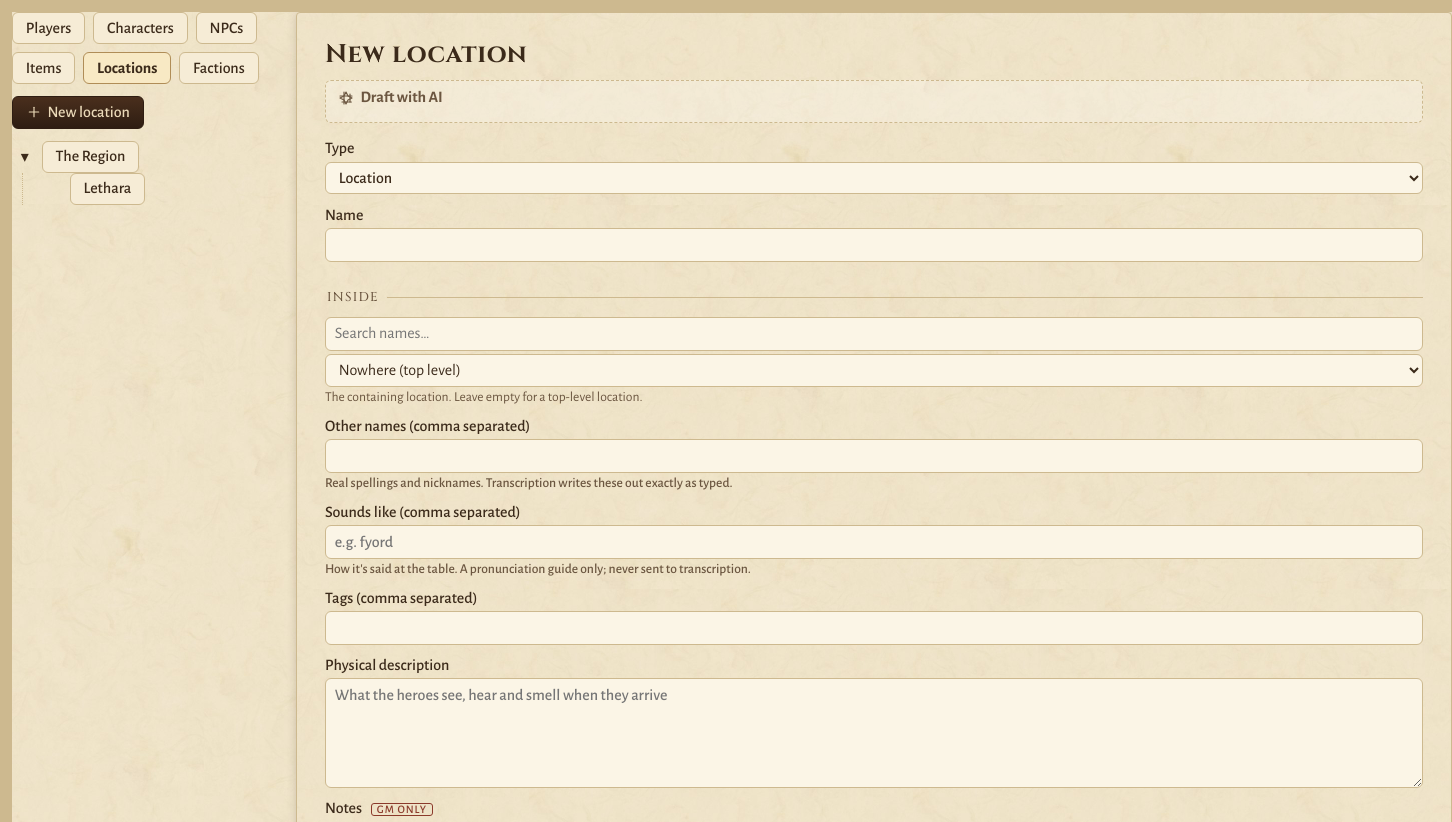
Test: relationships › a rejected relationship shows the server's reason, e.g. a containment loop
Click the button "The Region". click: (90, 157)
box: x1=42 y1=141 x2=139 y2=173
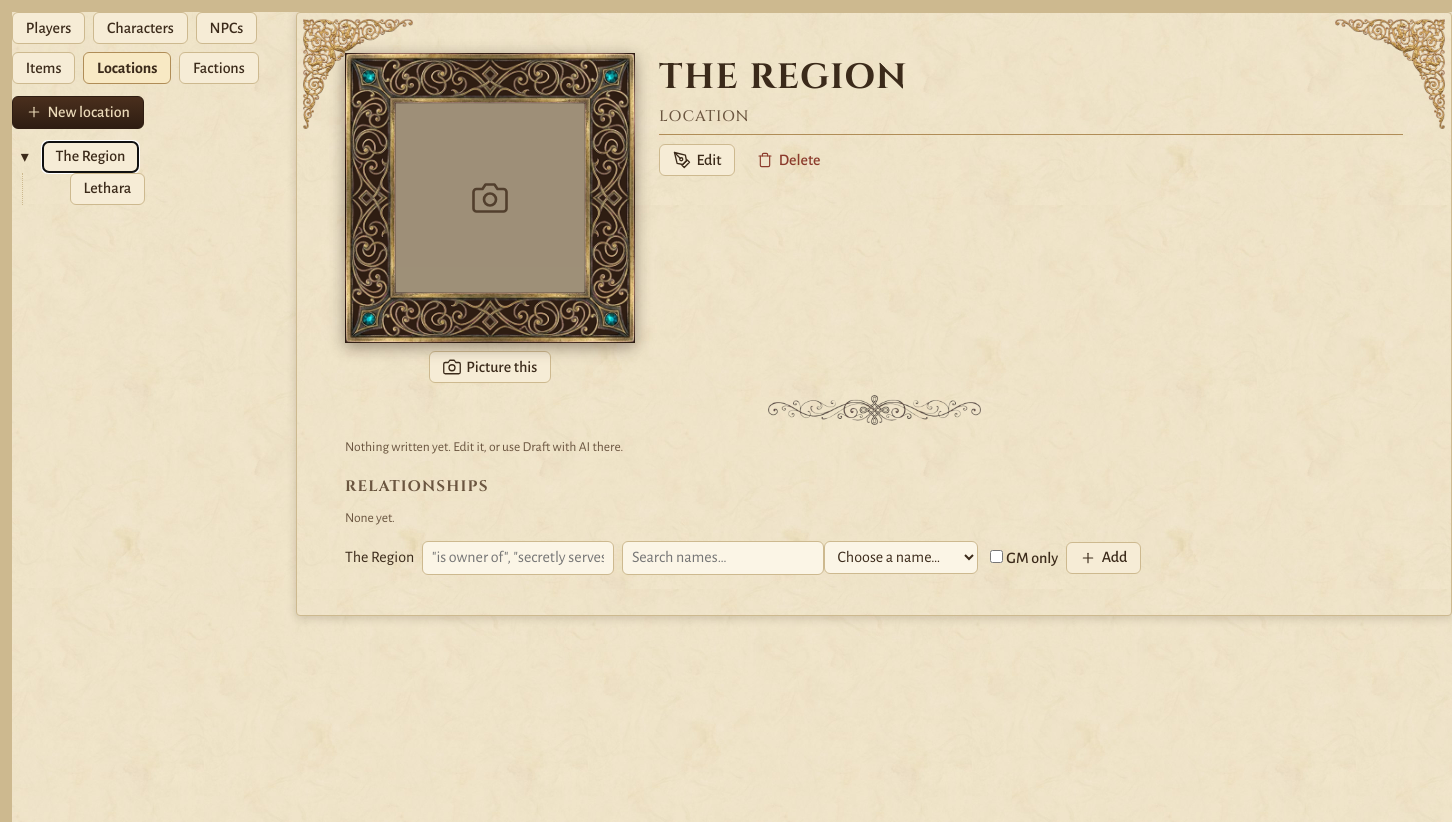
Select "Lethara" in the dropdown named "Related to". click: (901, 557)
box: x1=824 y1=541 x2=978 y2=574
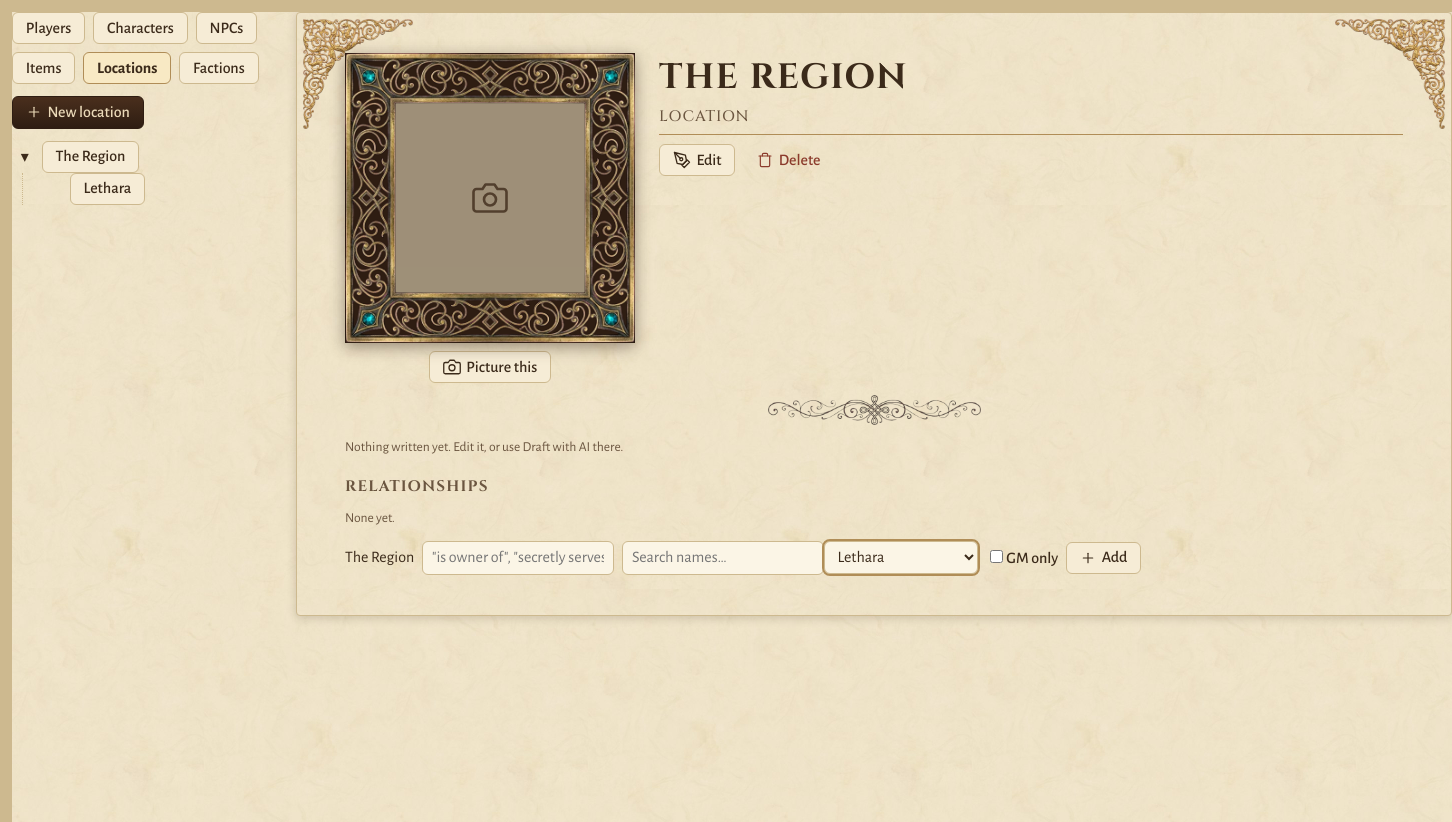
Type "part of" into the field with placeholder "\"is owner of\", \"secretly serves\", …". click: (518, 558)
box: x1=422 y1=541 x2=614 y2=575
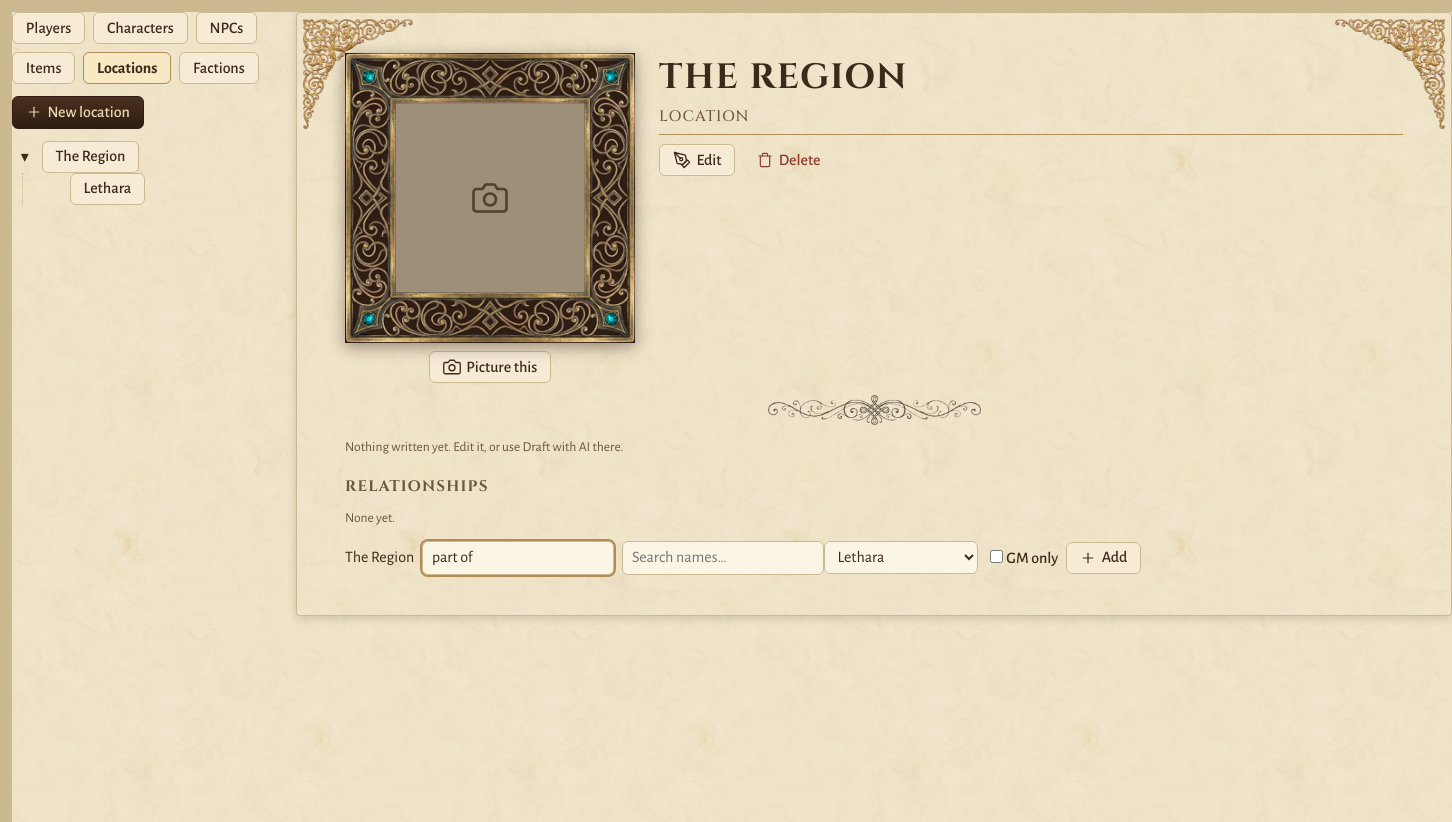
Click the button "Add". click: (1104, 558)
box: x1=1066 y1=542 x2=1141 y2=574
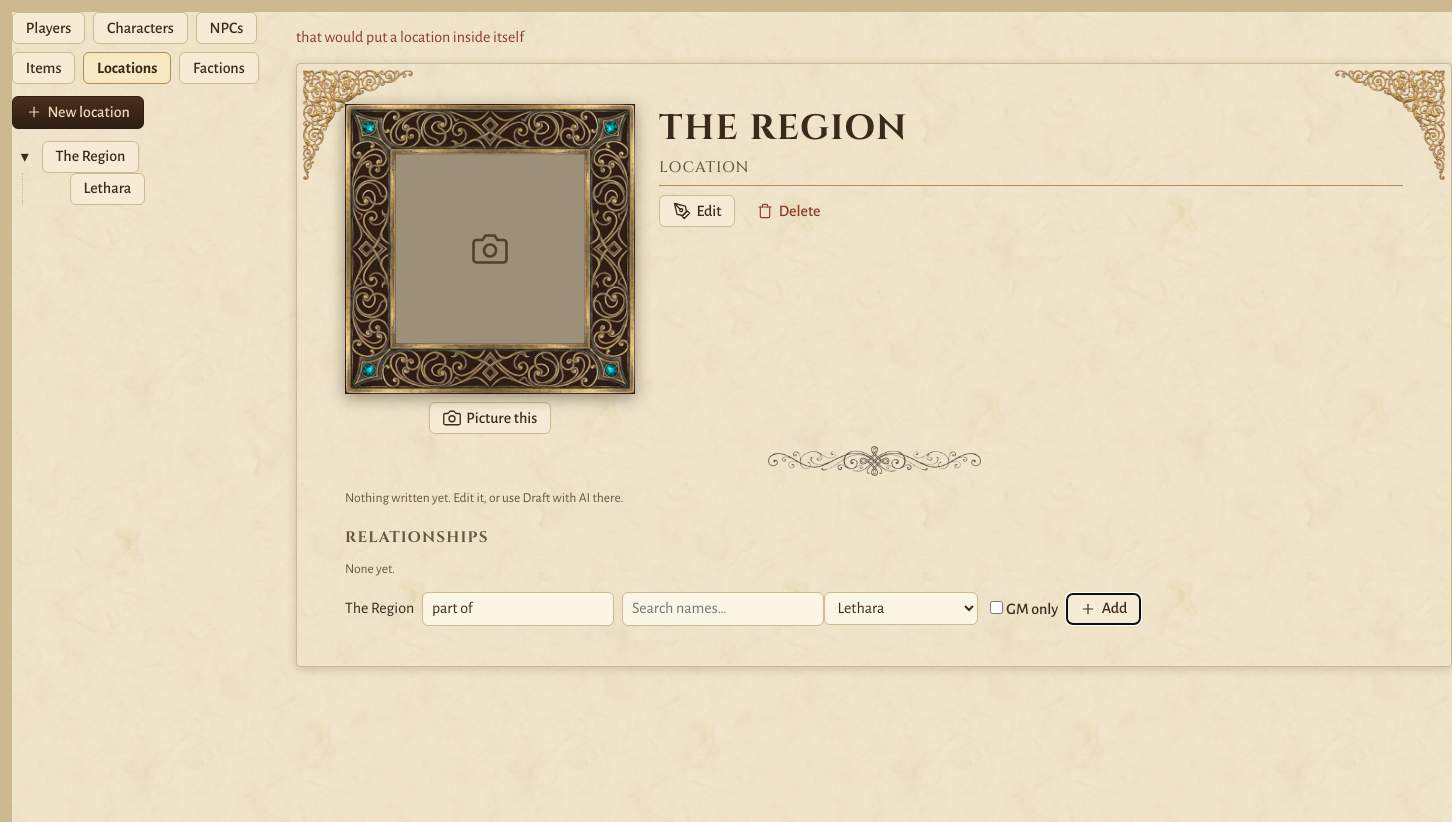
Check: the text "that would put a location inside itself" is shown, box x1=296 y1=29 x2=524 y2=45
